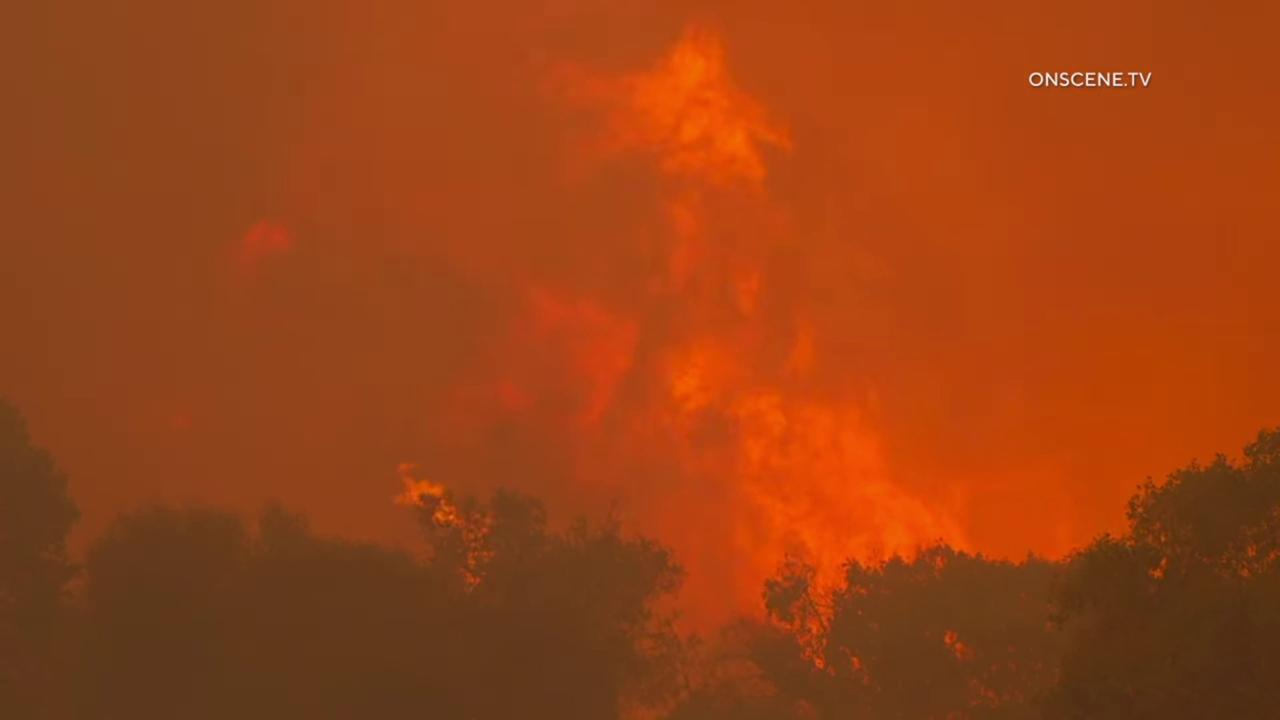fire: (531, 4, 978, 678), (221, 215, 292, 293), (391, 459, 462, 530)
smoke: (0, 0, 1280, 720)
